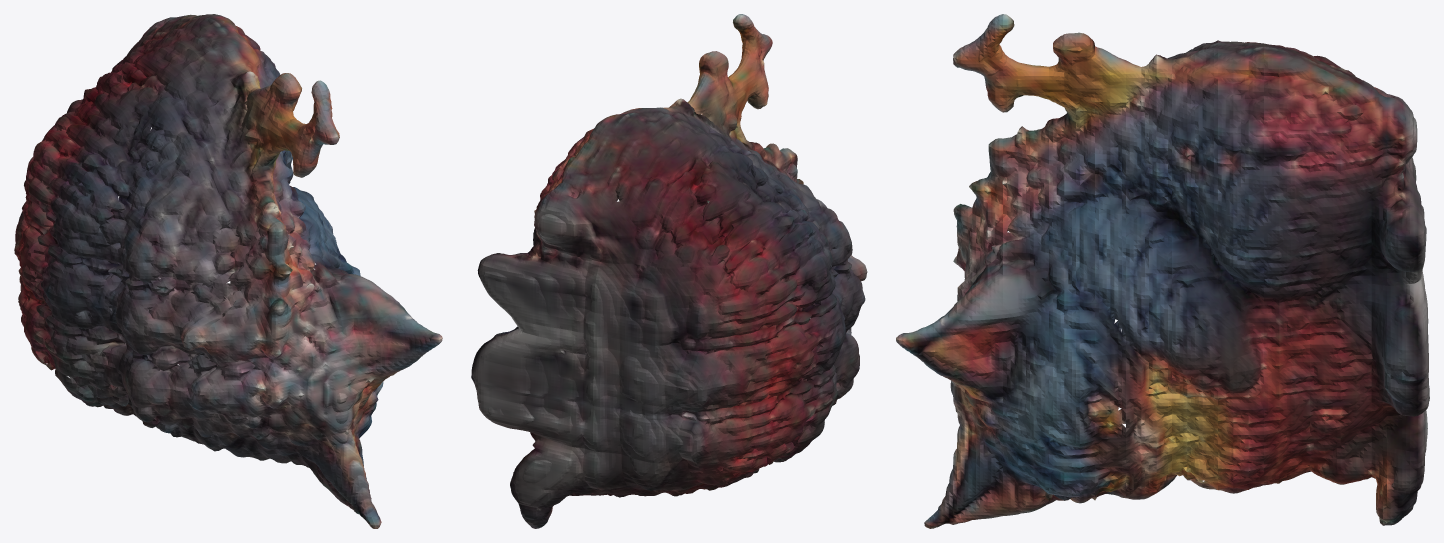
File: magmaWarden.glb
3 renders of one model, left to right at view 1: azimuth 30°, elevation 25°; view 2: azimuth 150°, elevation 25°; view 3: azimuth 270°, elevation 25°, orthographic. The views are drawn at different scales.
Parts seen in each view (by area): view 1: world; view 2: world; view 3: world.
Boxes of the visible parts, x1,y1,x2,y2 form: world: (14, 14, 442, 528); world: (471, 14, 867, 528); world: (896, 14, 1429, 528).
Size of the model in its own units: 0.6814 by 0.9767 by 0.9449.
